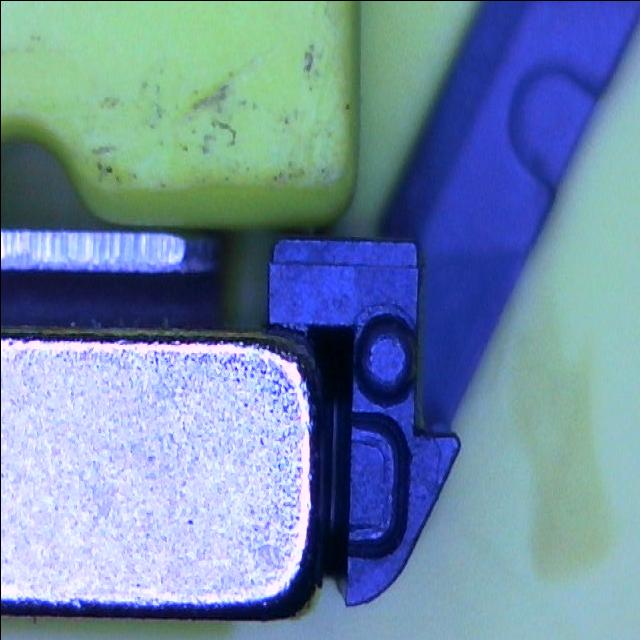lacking: (342, 408, 408, 561)
